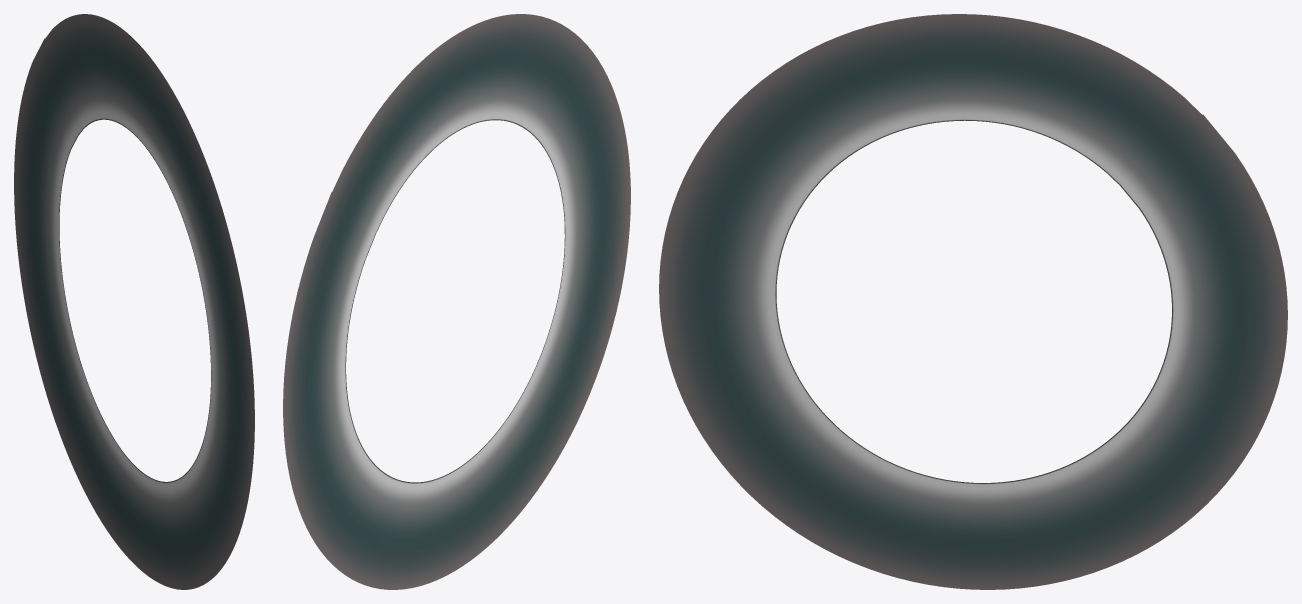
File: uraRing.obj
3 renders of one model, left to right at view 1: azimuth 30°, elevation 25°; view 2: azimuth 150°, elevation 25°; view 3: azimuth 270°, elevation 25°, orthographic. The views are drawn at different scales.
Parts seen in each view (by area): view 1: Sphere; view 2: Sphere; view 3: Sphere.
Part boxes in pixels (x1,y1,x2,y2): Sphere: [14, 14, 254, 589]; Sphere: [283, 14, 630, 589]; Sphere: [659, 14, 1287, 589].
Size of the model in its own units: 0.4006 by 4 by 3.98.
